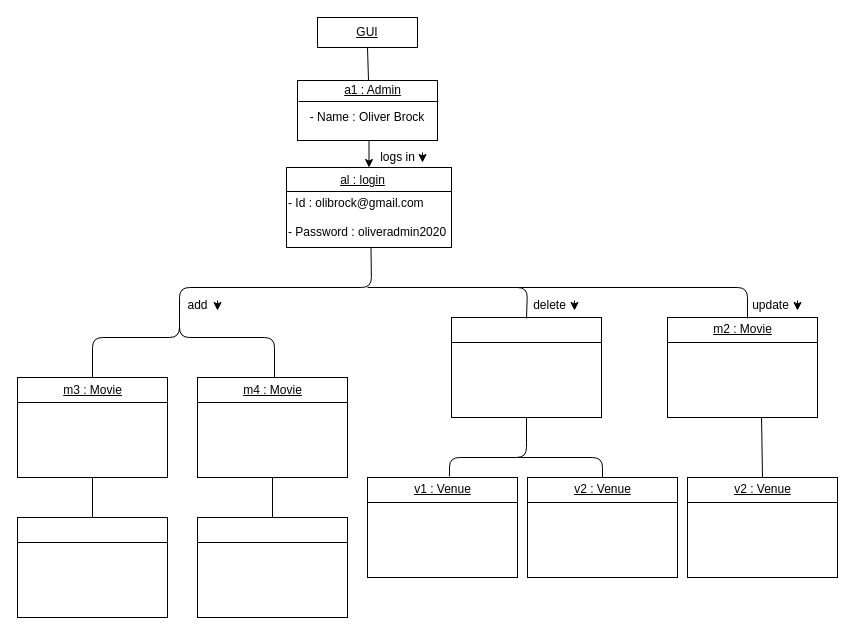
The diagram is 856 pixels wide and 635 high, and some of its shapes have lost their labels. Here are the shapes that lost their labels. From the top down, the centre of each, then its label:
At (x=526, y=367): "m1 : Movie".
At (x=92, y=567): "v4 : Venue".
At (x=272, y=567): "v5 : Venue".
